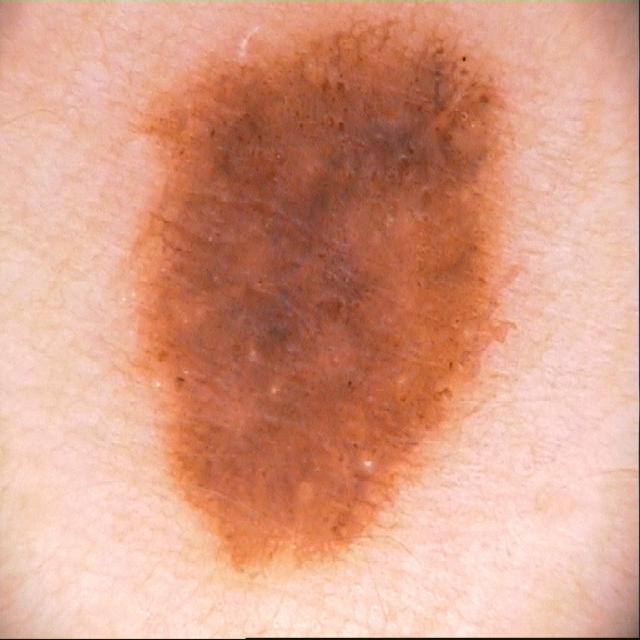Skin-Cancer Nevus: (74, 14, 640, 640)
